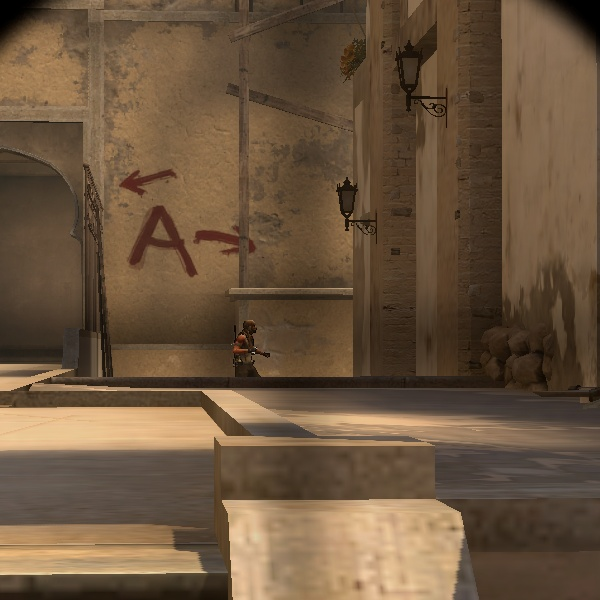t_body: (223, 315, 274, 377)
